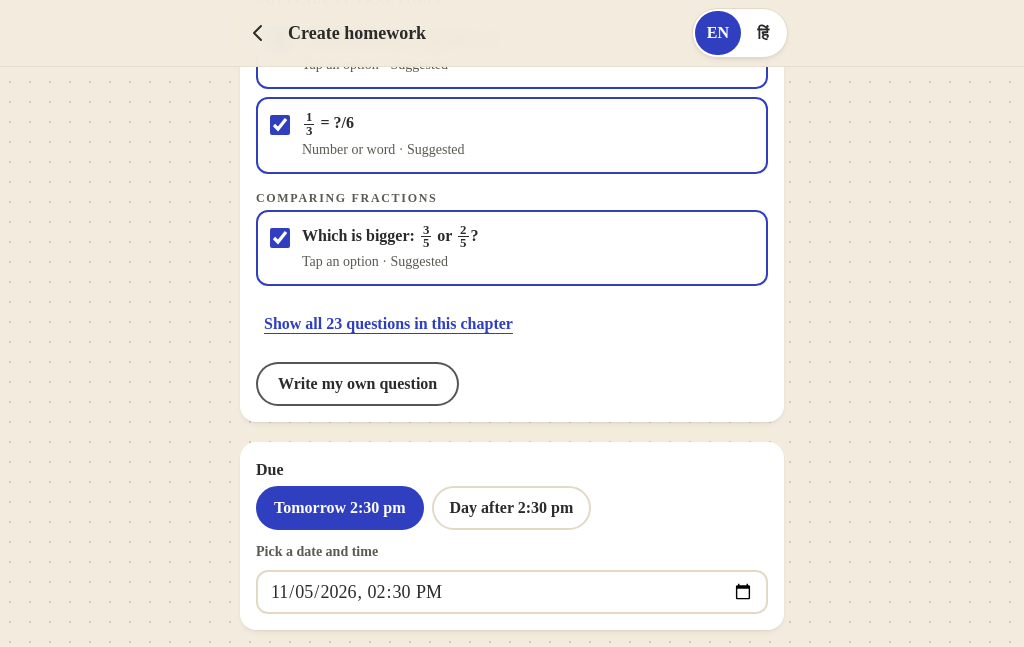
own-question editor › offers Preview auto-translate that fills a machine draft, or says it cannot
The width and height of the screenshot is (1024, 647).
(page scrolled)
Click the button "Write my own question" at (358, 384), box [256,362,459,406]
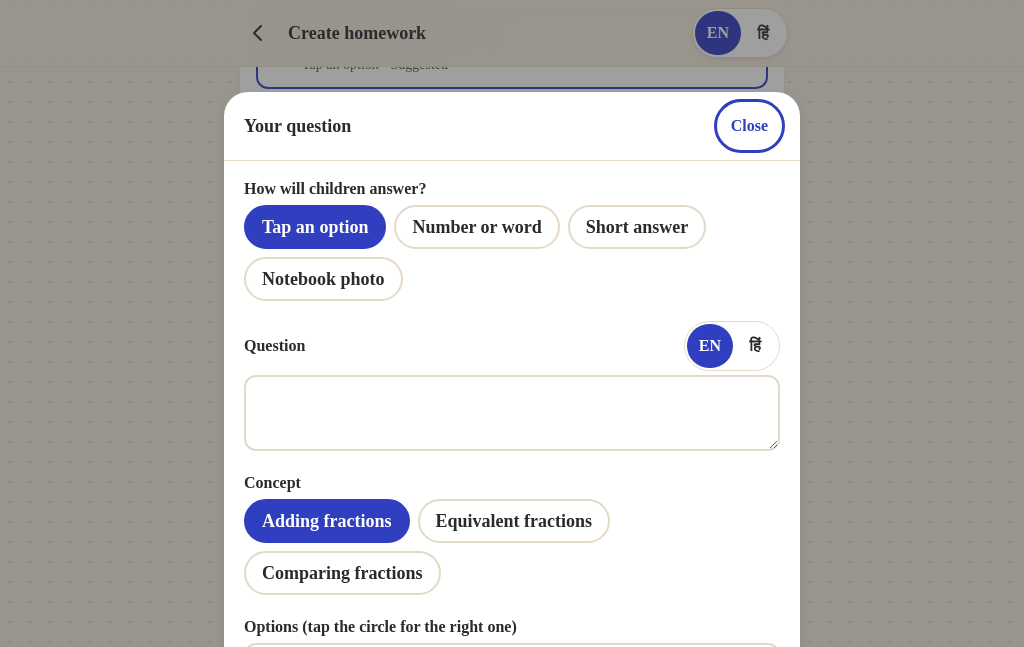
Click the 1st radio button labelled "Notebook photo" at (323, 279), box [244,257,402,301]
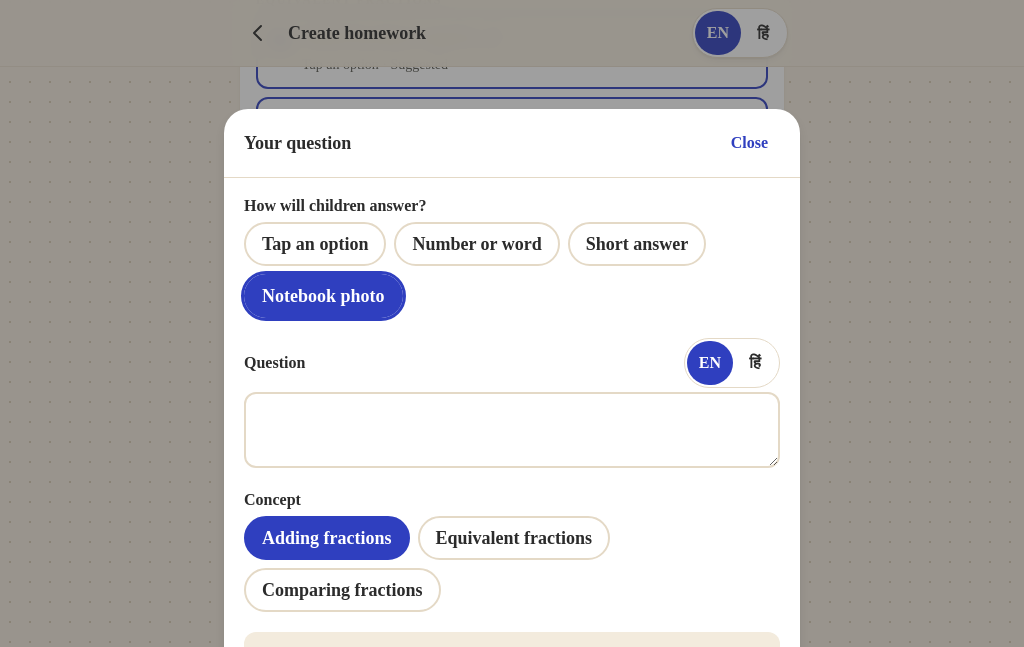
Type "Comparing fractions" into the text box labelled "Question" at (512, 430), box [244,392,780,468]
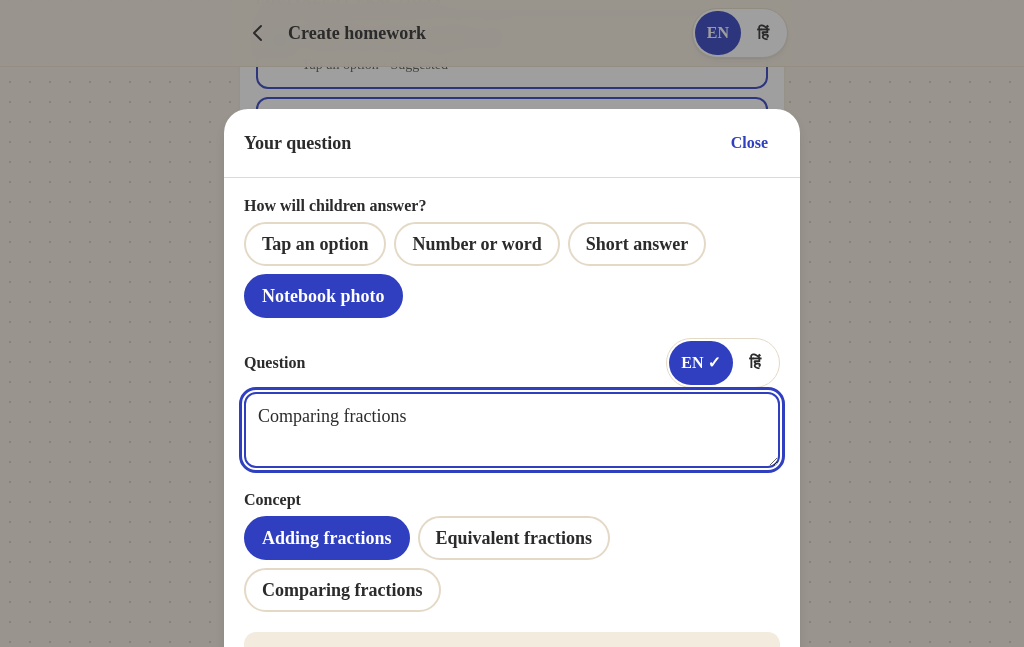
Click the tab "हिं" at (755, 363), box [733,341,777,385]
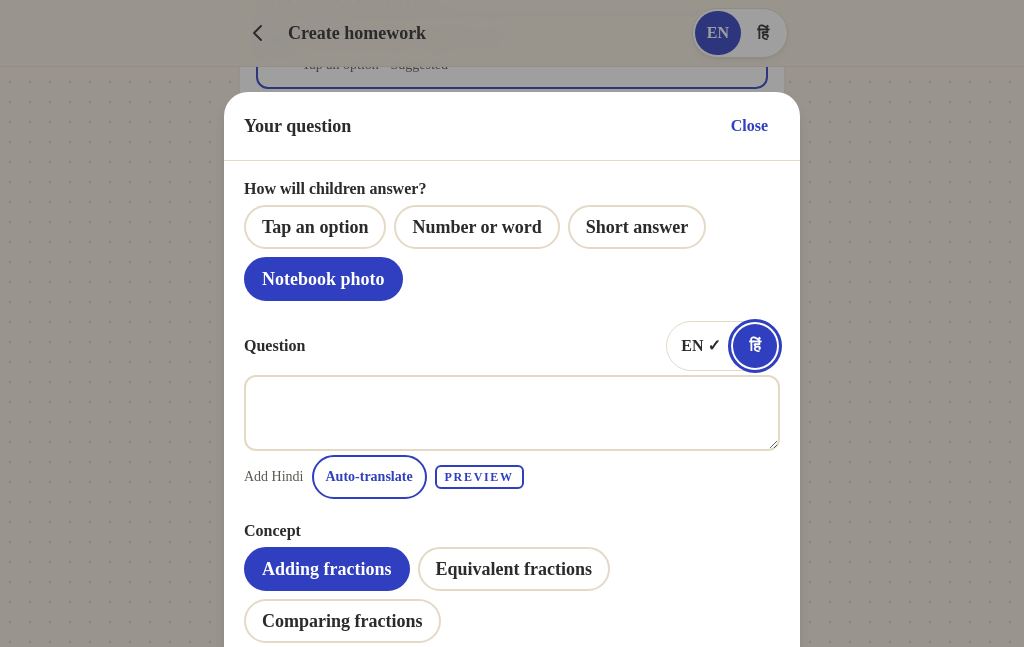
Check: the text "Preview" is shown, box [435,465,524,489]
Click the button "Auto-translate" at (369, 477), box [312,455,427,499]
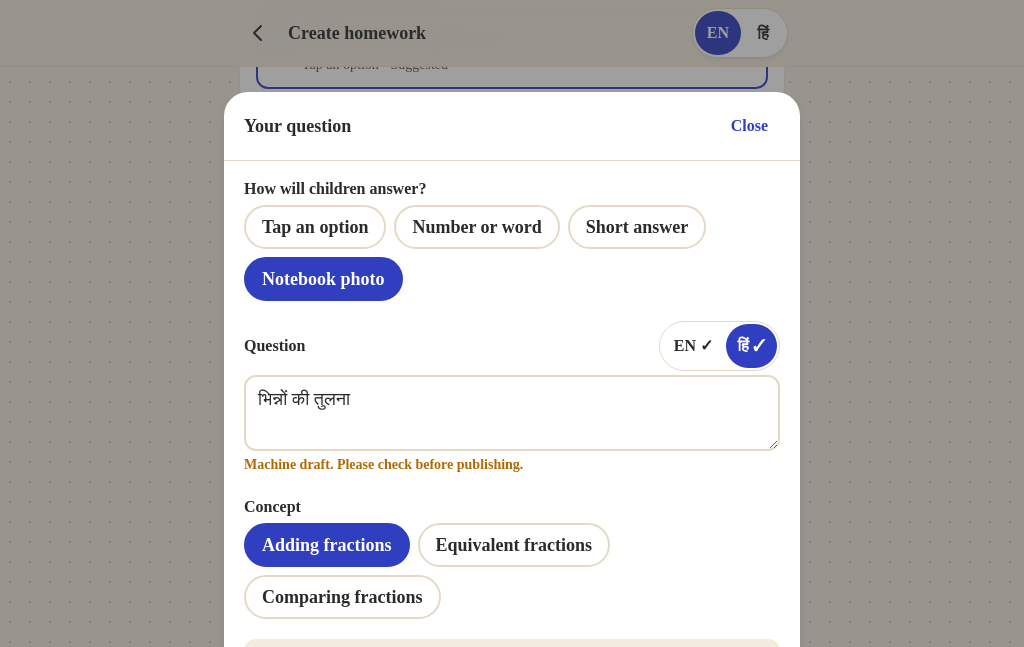
Check: the text box labelled "Question" holds "भिन्नों की तुलना", box [244,375,780,451]
Check: the text "Machine draft. Please check before publishing." is shown, box [244,457,523,472]
